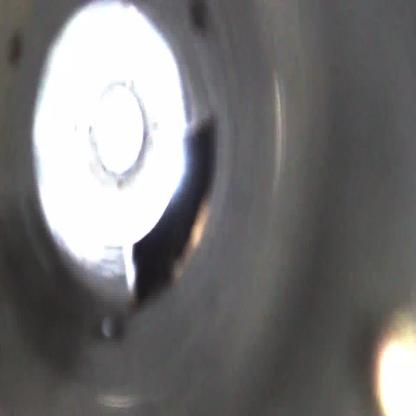Crack2: (129, 113, 217, 307)
